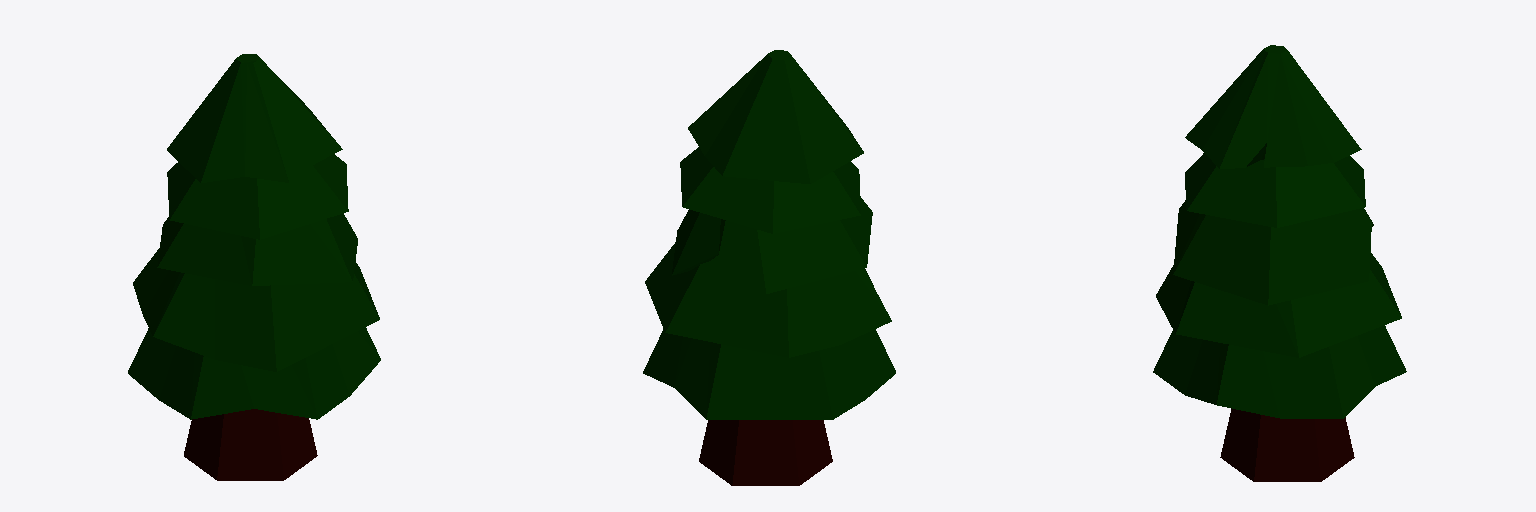
The model's file is low_poly_tree_1.obj.
3 views of the same model, side by side, from view 1: azimuth 30°, elevation 25°; view 2: azimuth 150°, elevation 25°; view 3: azimuth 270°, elevation 25° (orthographic).
Visible parts, largest first — view 1: Object_8, Object_14, Object_6, Object_10, Object_12, Object_4; view 2: Object_8, Object_6, Object_14, Object_10, Object_12, Object_4; view 3: Object_6, Object_10, Object_14, Object_8, Object_12, Object_4.
Part boxes in pixels (bbox=[...]): Object_8: bbox=[133, 248, 379, 371]; Object_14: bbox=[167, 54, 342, 182]; Object_6: bbox=[128, 327, 380, 419]; Object_10: bbox=[157, 213, 357, 285]; Object_12: bbox=[167, 154, 348, 239]; Object_4: bbox=[184, 409, 317, 480]; Object_8: bbox=[645, 242, 891, 357]; Object_6: bbox=[643, 329, 895, 419]; Object_14: bbox=[688, 50, 863, 183]; Object_10: bbox=[672, 196, 872, 293]; Object_12: bbox=[680, 147, 860, 233]; Object_4: bbox=[699, 420, 832, 485]; Object_6: bbox=[1153, 325, 1406, 418]; Object_10: bbox=[1173, 200, 1373, 305]; Object_14: bbox=[1185, 45, 1361, 168]; Object_8: bbox=[1156, 253, 1401, 357]; Object_12: bbox=[1185, 153, 1365, 227]; Object_4: bbox=[1220, 408, 1354, 481].
Bounding box in the file's own units: 3.91 × 6.65 × 3.79.